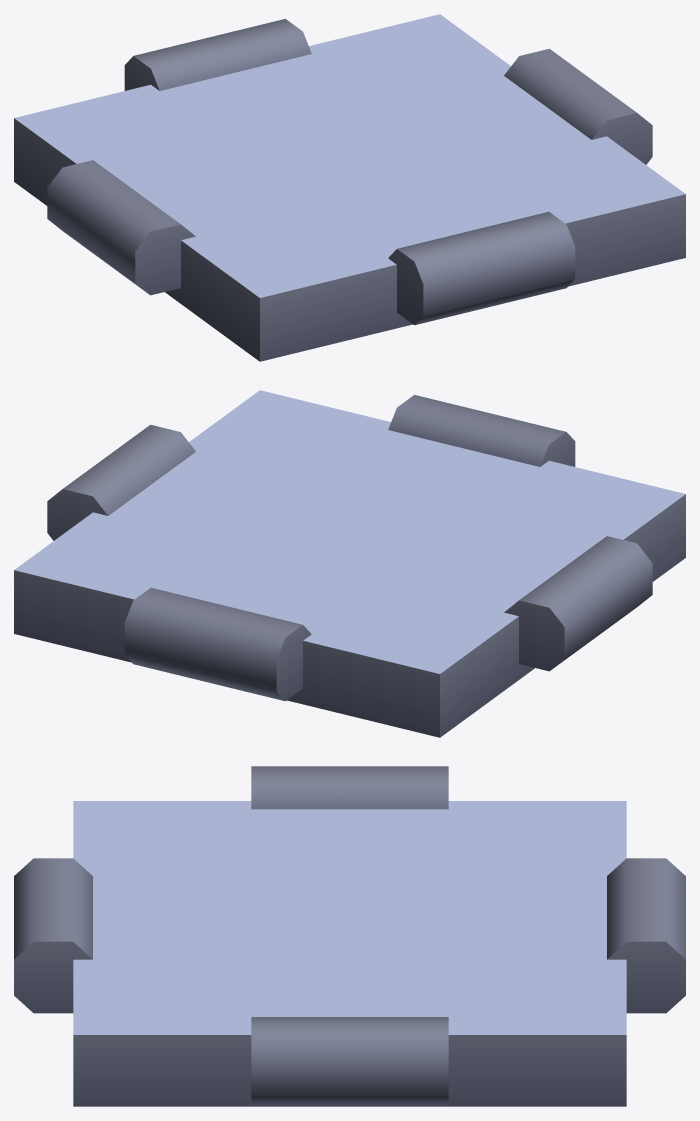
The model's file is structure-panel.glb.
3 views of the same model, one above another, from view 1: azimuth 30°, elevation 25°; view 2: azimuth 150°, elevation 25°; view 3: azimuth 270°, elevation 25° (orthographic). The views are drawn at different scales.
Visible parts, largest first — view 1: structure-panel; view 2: structure-panel; view 3: structure-panel.
Part boxes in pixels (x1=…): structure-panel: x1=14, y1=14, x2=685, y2=361; structure-panel: x1=14, y1=390, x2=685, y2=737; structure-panel: x1=14, y1=766, x2=685, y2=1106.
Bounding box in the file's own units: 0.85 × 0.125 × 0.85.
1 material, 1 textured.
